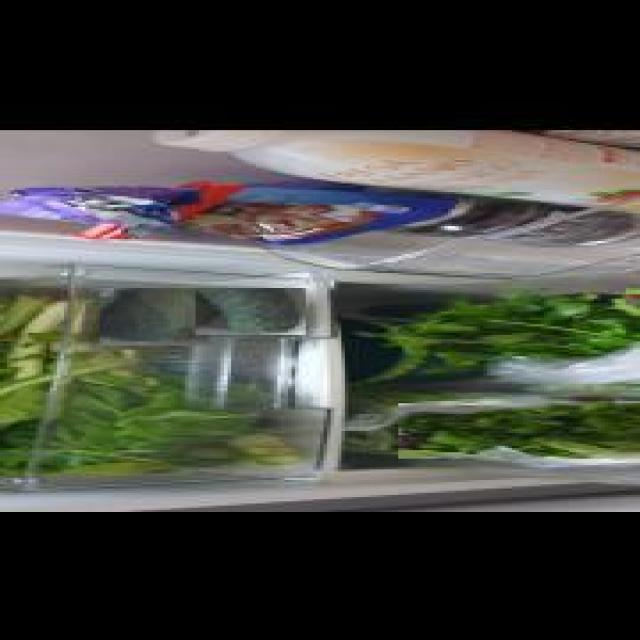cucumber: (100, 286, 210, 343), (196, 286, 306, 333)
pak_choi: (0, 293, 103, 472), (82, 344, 181, 474)
salad: (398, 401, 640, 457)
